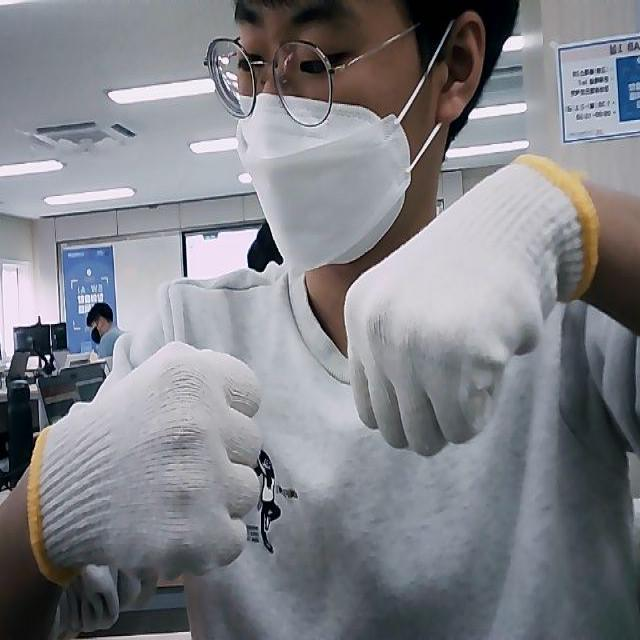gloves: (343, 150, 600, 456), (27, 342, 260, 588)
